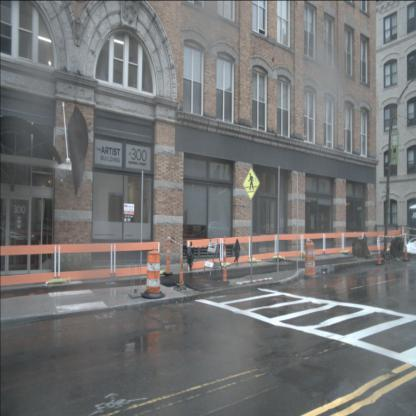movable_object-trafficcone: (141, 250, 165, 300), (303, 239, 317, 279), (220, 235, 230, 284), (177, 238, 186, 288), (163, 232, 173, 276), (375, 235, 384, 265), (402, 233, 410, 261)
vehicle-car: (204, 221, 232, 243)
